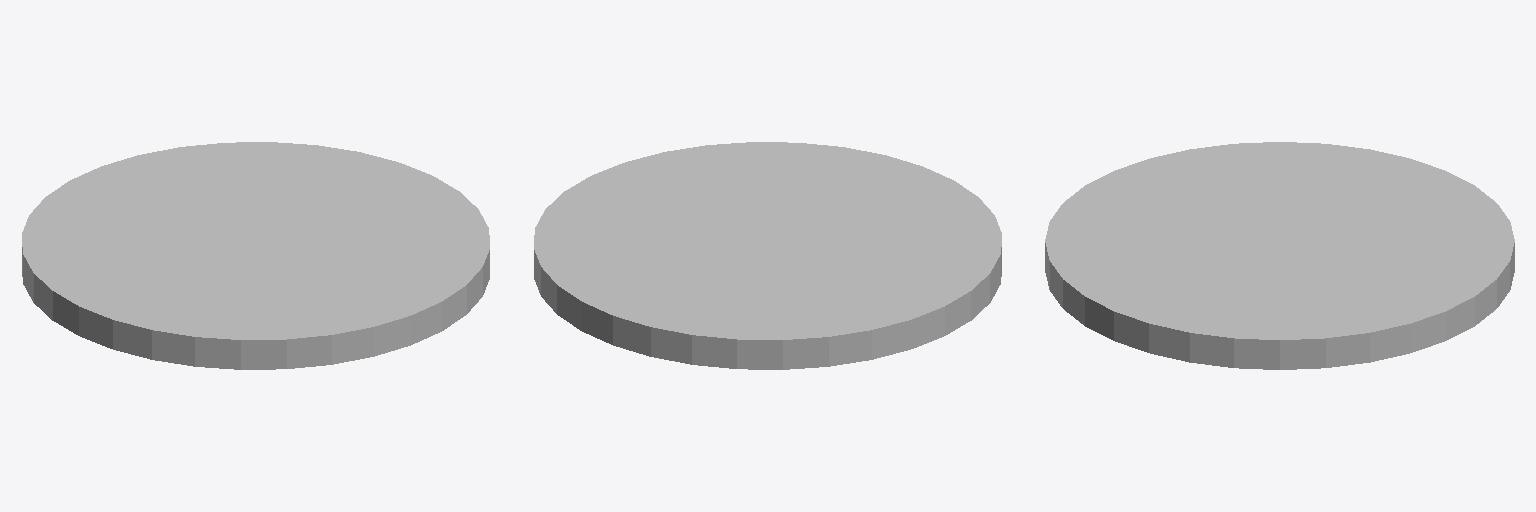
The model's file is level.obj.
The picture shows the model from 3 angles: view 1: azimuth 30°, elevation 25°; view 2: azimuth 150°, elevation 25°; view 3: azimuth 270°, elevation 25°; orthographic projection.
Visible parts, largest first — view 1: Cylinder; view 2: Cylinder; view 3: Cylinder.
Part boxes in pixels (x1,y1,x2,y2): Cylinder: (22,142,489,369); Cylinder: (534,142,1001,369); Cylinder: (1045,142,1514,369).
Size of the model in its own units: 10 by 0.7 by 10.